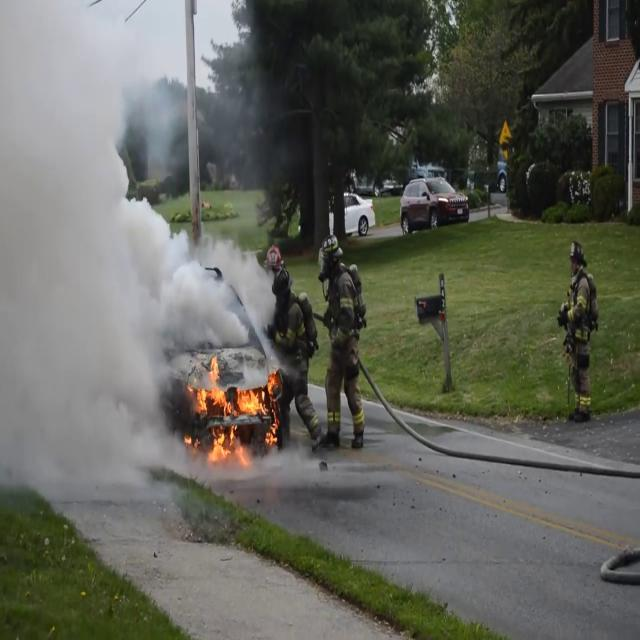Fire: (191, 355, 280, 465)
Smoke: (0, 1, 282, 507)
